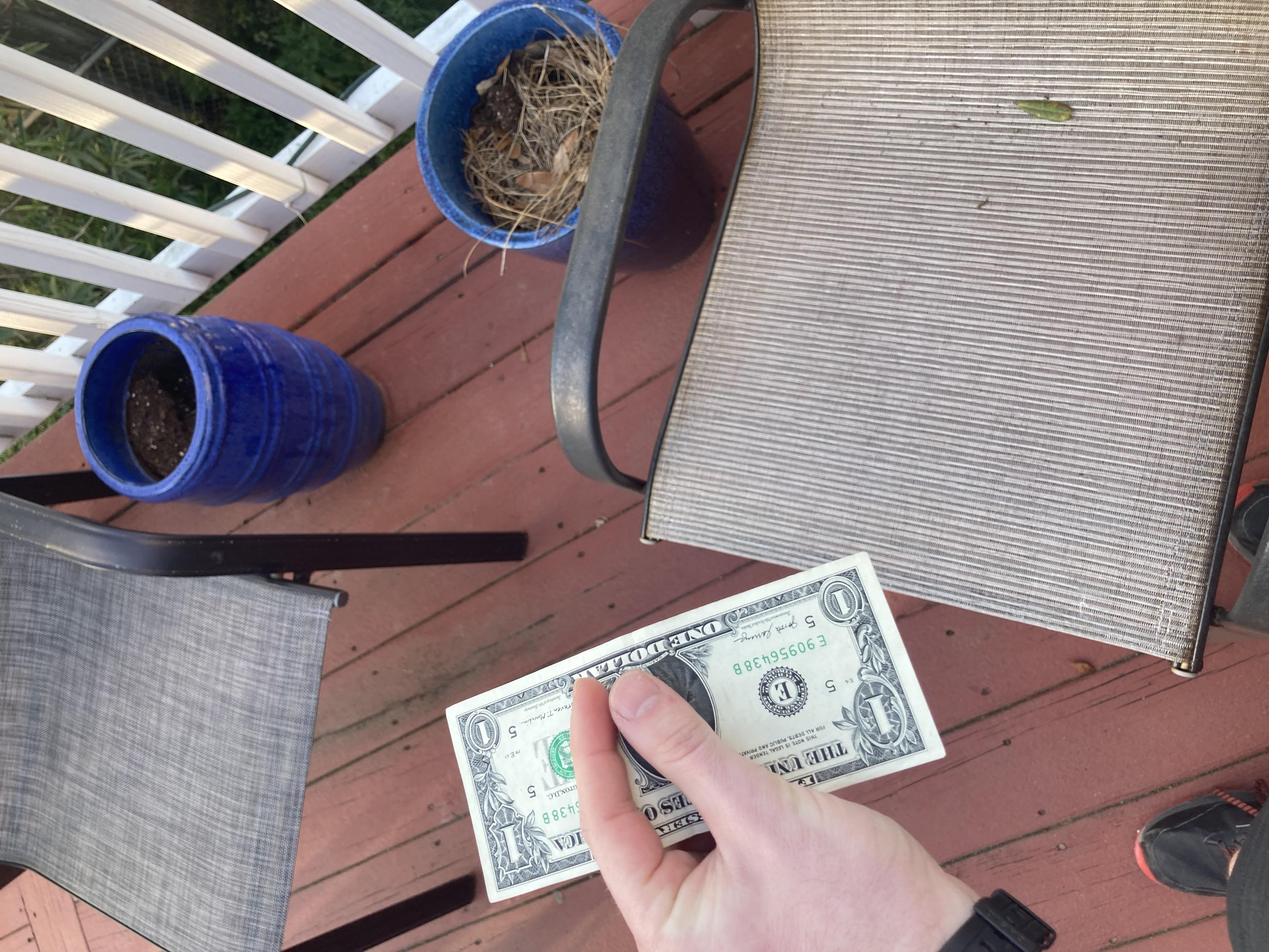one-front: (66, 334, 539, 711)
